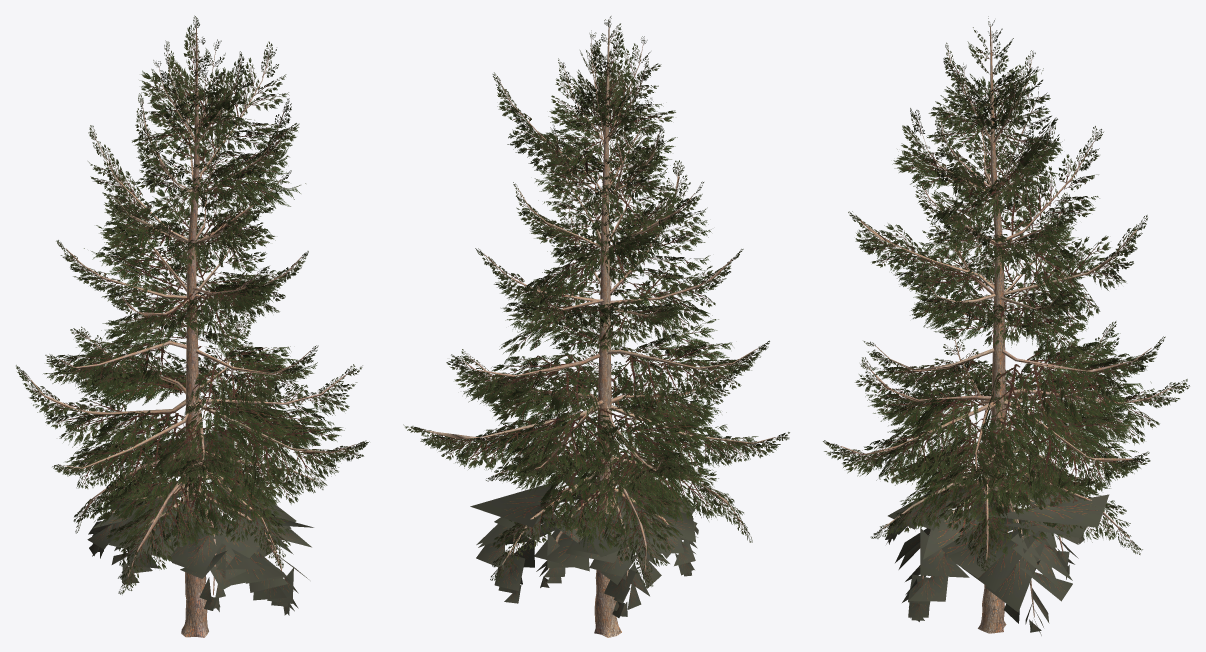
Rendered from forest_Tree.fbx.
The picture shows the model from 3 angles, left to right: view 1: azimuth 30°, elevation 25°; view 2: azimuth 150°, elevation 25°; view 3: azimuth 270°, elevation 25°; orthographic projection.
Parts seen in each view (by area): view 1: StaticMeshActor_UAID_D85ED3559E7B51DD01_1748509794_StaticMe; view 2: StaticMeshActor_UAID_D85ED3559E7B51DD01_1748509794_StaticMe; view 3: StaticMeshActor_UAID_D85ED3559E7B51DD01_1748509794_StaticMe.
Part boxes in pixels (left/top/right/bottom): StaticMeshActor_UAID_D85ED3559E7B51DD01_1748509794_StaticMe: left=16, top=15, right=369, bottom=637; StaticMeshActor_UAID_D85ED3559E7B51DD01_1748509794_StaticMe: left=403, top=16, right=789, bottom=637; StaticMeshActor_UAID_D85ED3559E7B51DD01_1748509794_StaticMe: left=823, top=16, right=1189, bottom=635.
Size of the model in its own units: 15.65 by 28.59 by 15.67.
